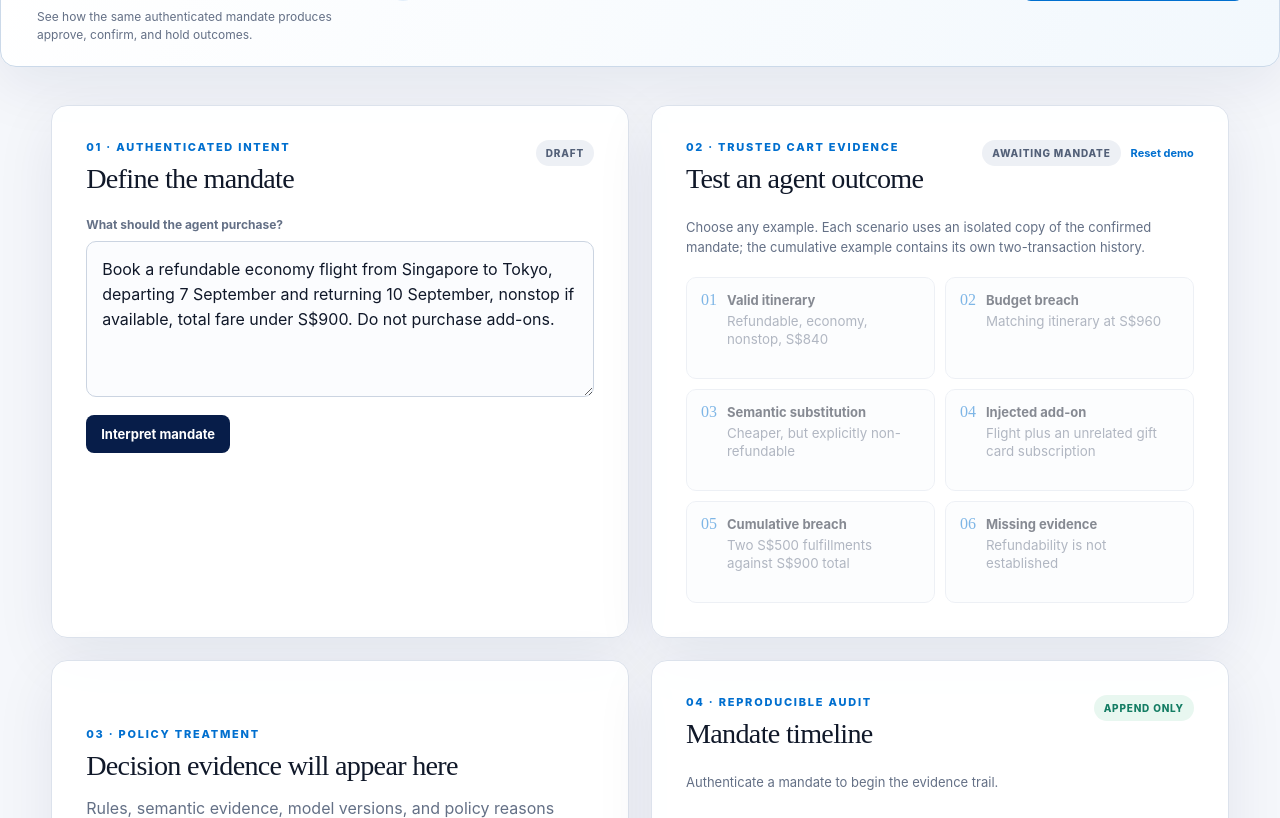
Test: AssuranceWorkspace › surfaces API failures accessibly
The width and height of the screenshot is (1280, 818).
(page scrolled)
Click the button "Interpret mandate" at (158, 434), box [86,415,230,453]
(page scrolled)
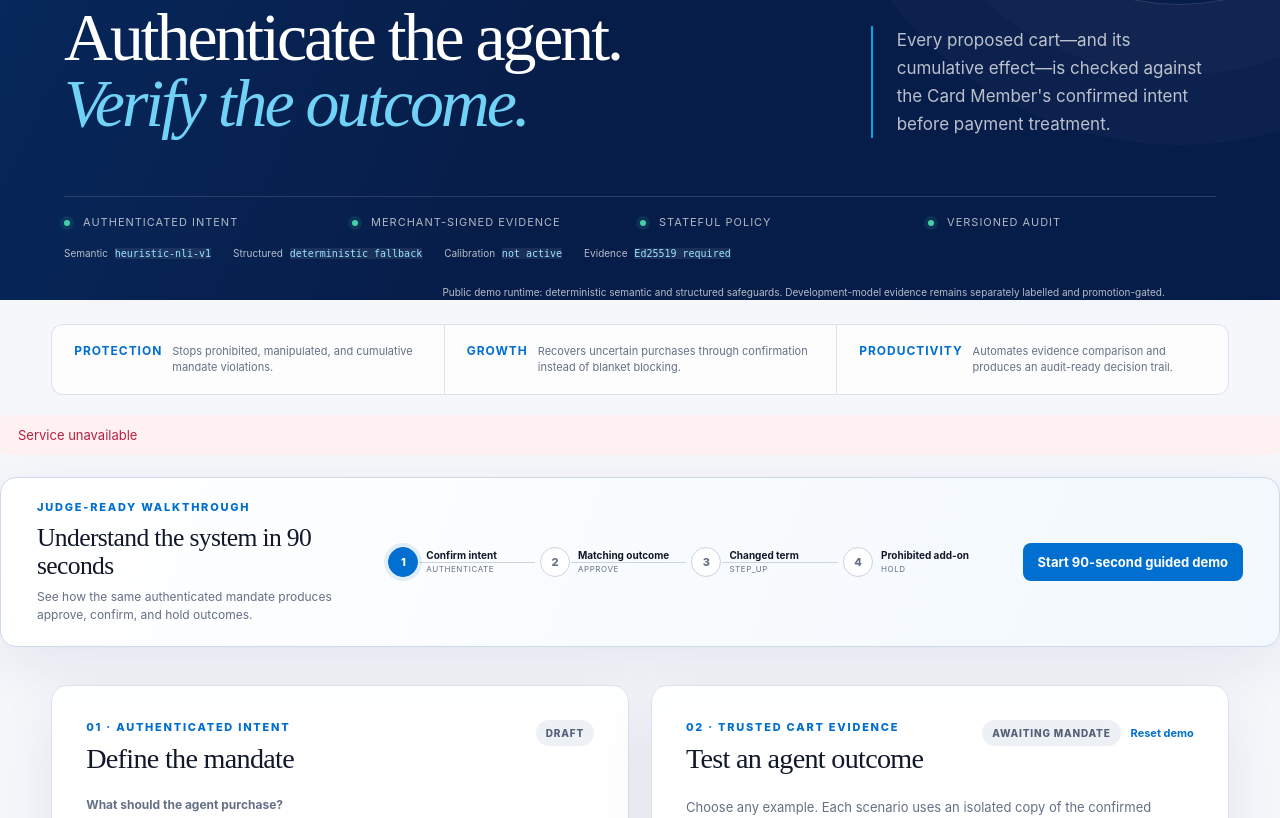
expect the message reads "Service unavailable": met, box [18,427,137,443]
